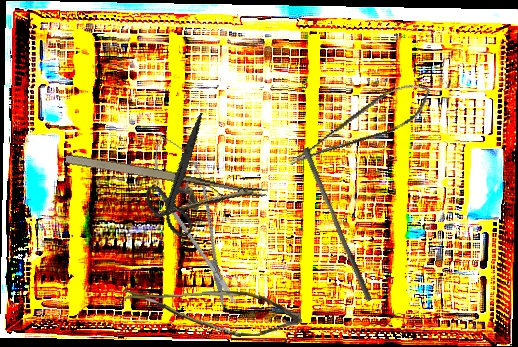Iris Scissors: (127, 112, 234, 244)
Micro Scissor: (138, 123, 253, 319), (277, 75, 441, 171), (121, 280, 303, 343)
Needle Holder: (58, 147, 268, 239)
Pusher: (296, 146, 379, 303)
